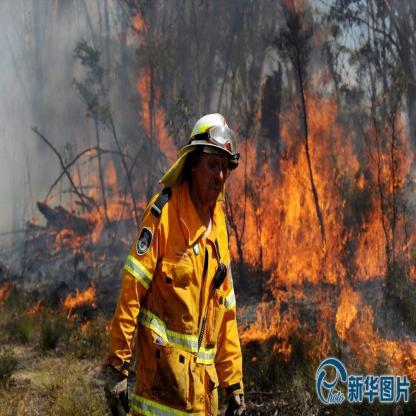fire: (225, 78, 413, 383), (47, 13, 179, 336)
other: (131, 105, 245, 401)
